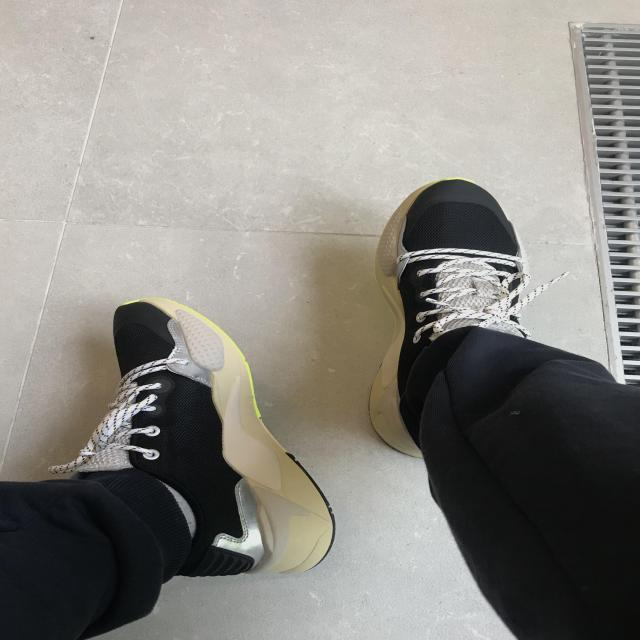shoes: (55, 293, 339, 580), (367, 175, 538, 459)
